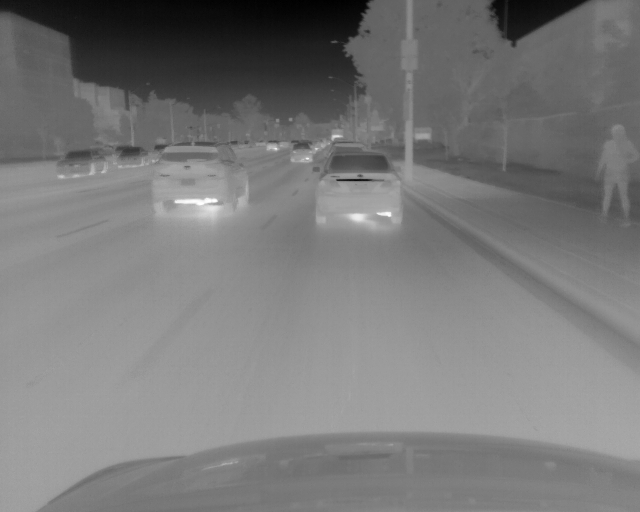car: (153, 140, 253, 220), (312, 152, 405, 224), (54, 149, 109, 180), (115, 146, 152, 169), (288, 142, 312, 163), (329, 141, 366, 153), (265, 140, 280, 152), (311, 140, 324, 152)
people: (592, 125, 640, 228)
